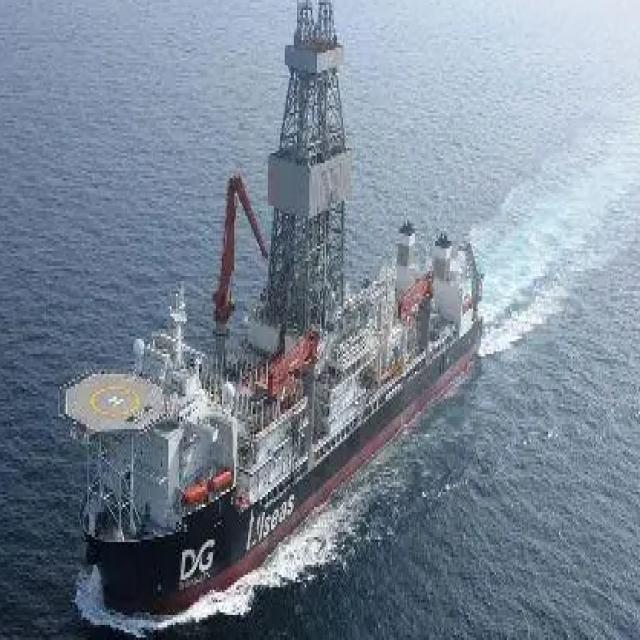navalvessels: (56, 18, 510, 614)
